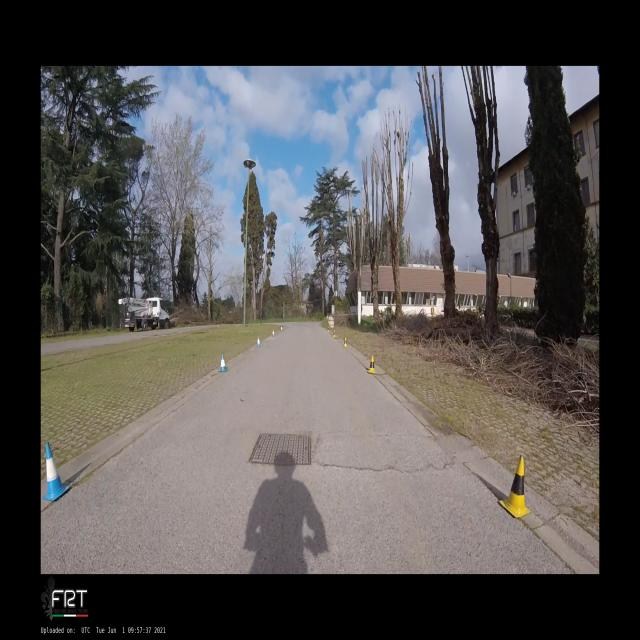blue_cone: (42, 442, 70, 502), (218, 353, 229, 372), (256, 336, 262, 347)
yellow_cone: (499, 455, 531, 518), (367, 355, 376, 373), (344, 337, 347, 348), (333, 330, 335, 337)
